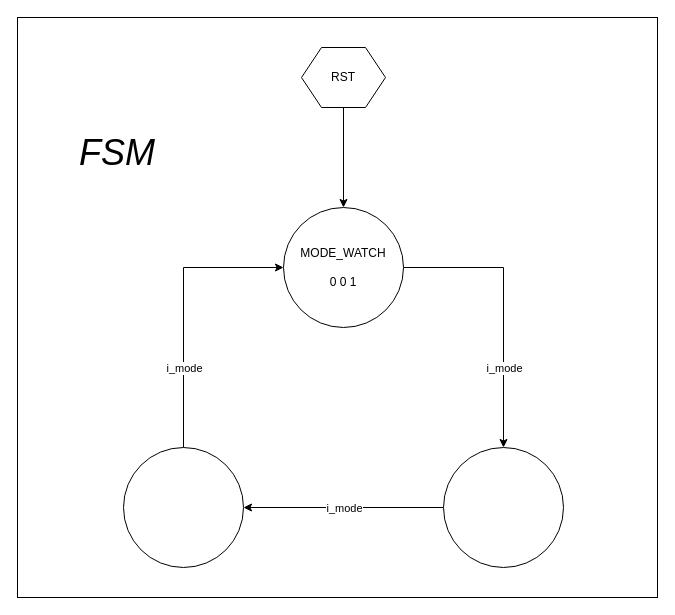
Image size: 675x615. Some labels were removed from this diagram. The shapes that lost their labels are listed below. From the top down, each one's box as (x1, y1, x2, y2) in pixels, then its label:
(122, 446, 244, 568): MODE_ COOKING_TIMER 1 0 0
(442, 446, 564, 568): MODE_ STOP_WATCH 0 1 0
